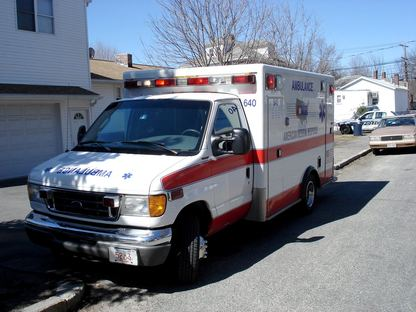ambulance: (24, 62, 340, 288)
